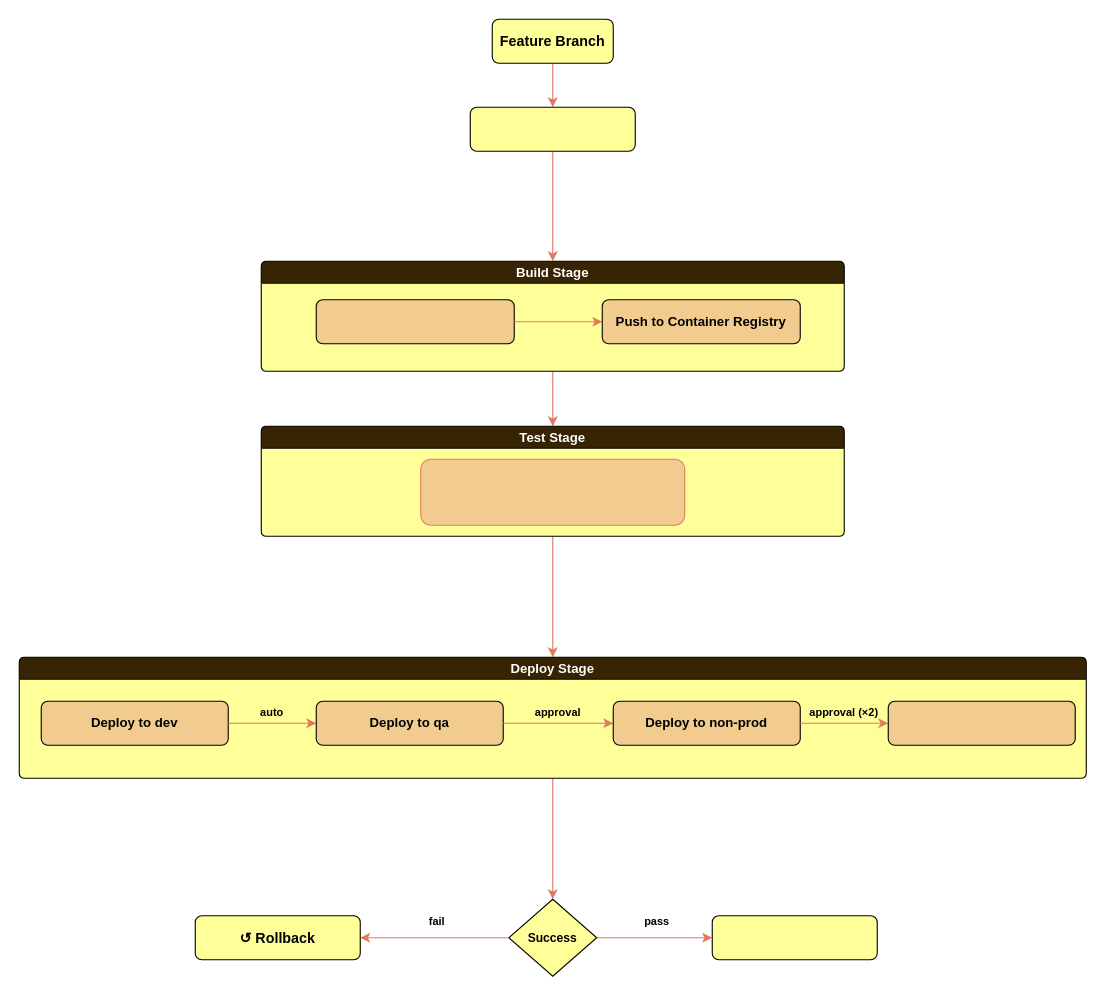
Image size: 1106x996. Some labels were removed from this diagram. The centre of each missing label's shape, as x and y in pixels:
"Build Docker Image" goes at [414,321].
"Deploy to prod" goes at [981,722].
"Merge Request to dev" goes at [552,128].
"• Run Unit Tests • Integration Tests • Linting & Coverage" goes at [552,491].
"✓ Application is deployed" goes at [794,937].
